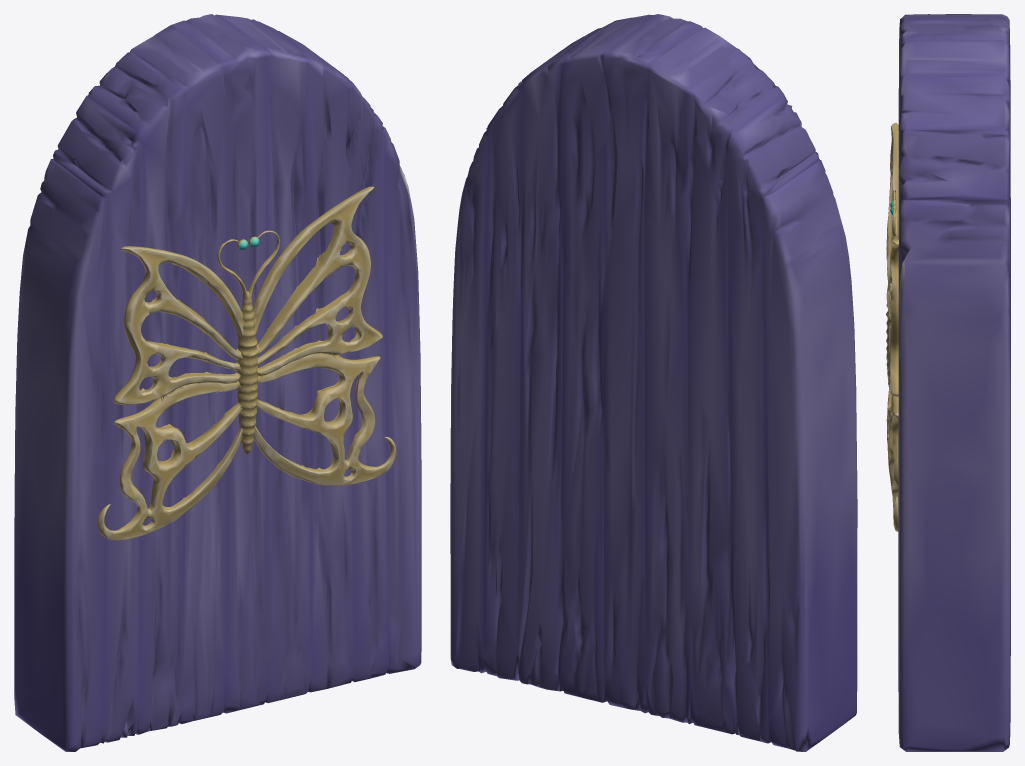
Rendered from SM_Door_purple.fbx.
The picture shows the model from 3 angles, left to right: view 1: azimuth 30°, elevation 25°; view 2: azimuth 150°, elevation 25°; view 3: azimuth 270°, elevation 25°; orthographic projection. The views are drawn at different scales.
Visible parts, largest first — view 1: Door_purple; view 2: Door_purple; view 3: Door_purple.
Part boxes in pixels (x1,y1,x2,y2): Door_purple: (14, 14, 421, 751); Door_purple: (450, 14, 857, 751); Door_purple: (886, 14, 1010, 751).
Bounding box in the file's own units: 93.26 × 163 × 28.79.
